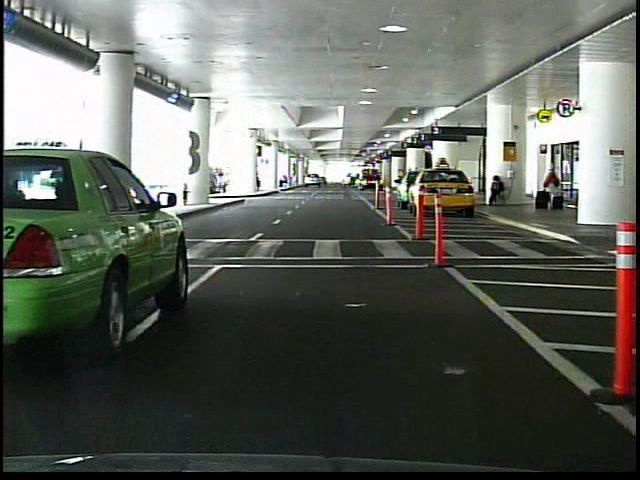person: (61, 148, 86, 227), (545, 162, 564, 212), (486, 173, 507, 207)
